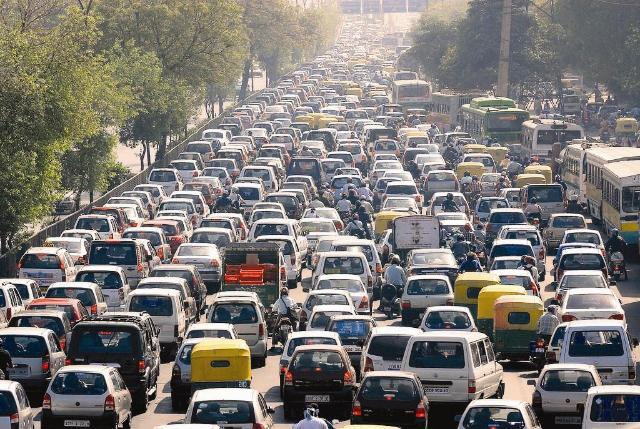3-Wheeler: (486, 298, 546, 371), (182, 341, 254, 399)
car: (390, 336, 518, 406), (38, 361, 138, 429), (522, 360, 606, 428), (340, 370, 434, 428), (124, 293, 188, 349), (556, 287, 626, 332), (166, 241, 228, 287)
semi-trailer: (226, 247, 288, 305), (388, 212, 440, 256)
